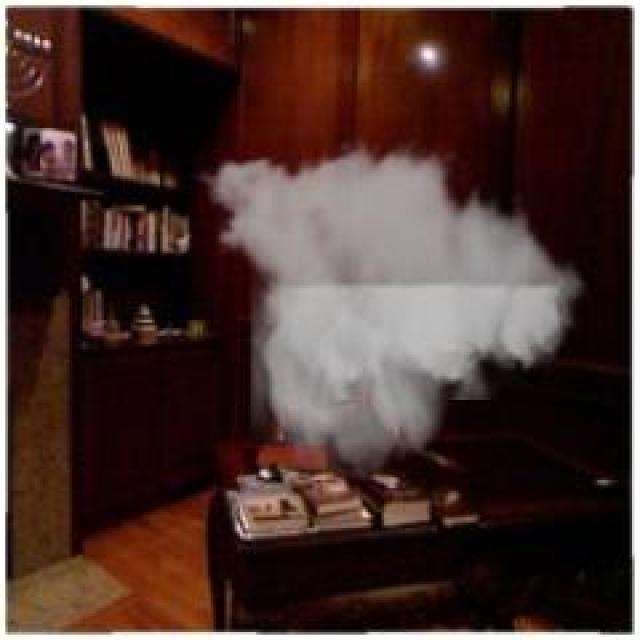Smoke: (190, 133, 598, 480)
